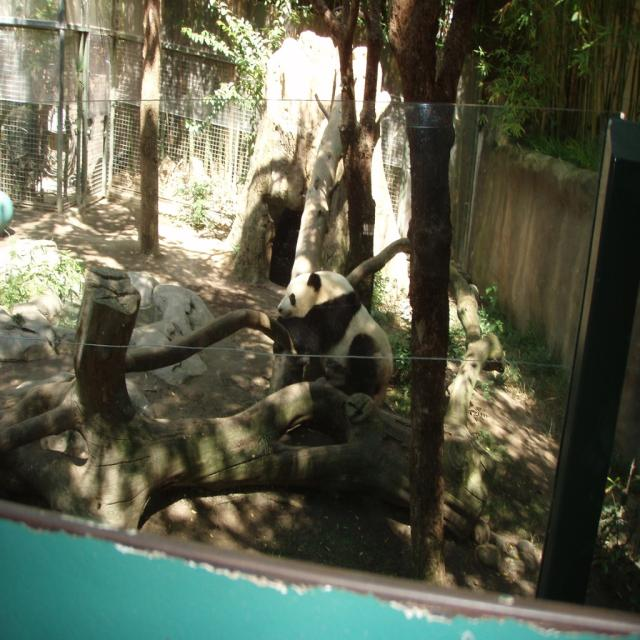panda: (275, 271, 394, 411)
